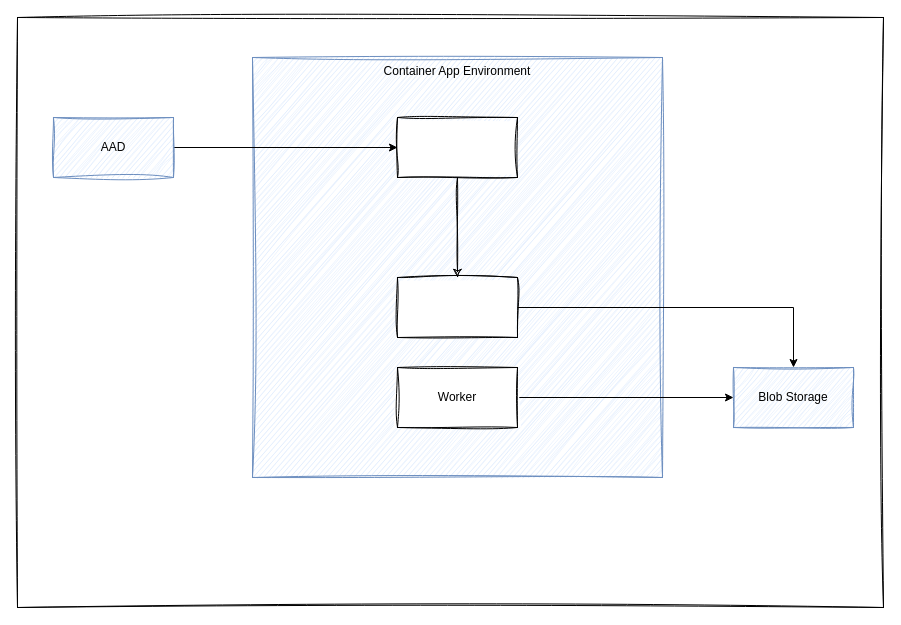
Image size: 901x625. Some labels were removed from this diagram. The centre of each missing label's shape, as x and y in pixels:
"Backend" belongs at [457,307].
"Frontend" belongs at [457,147].
